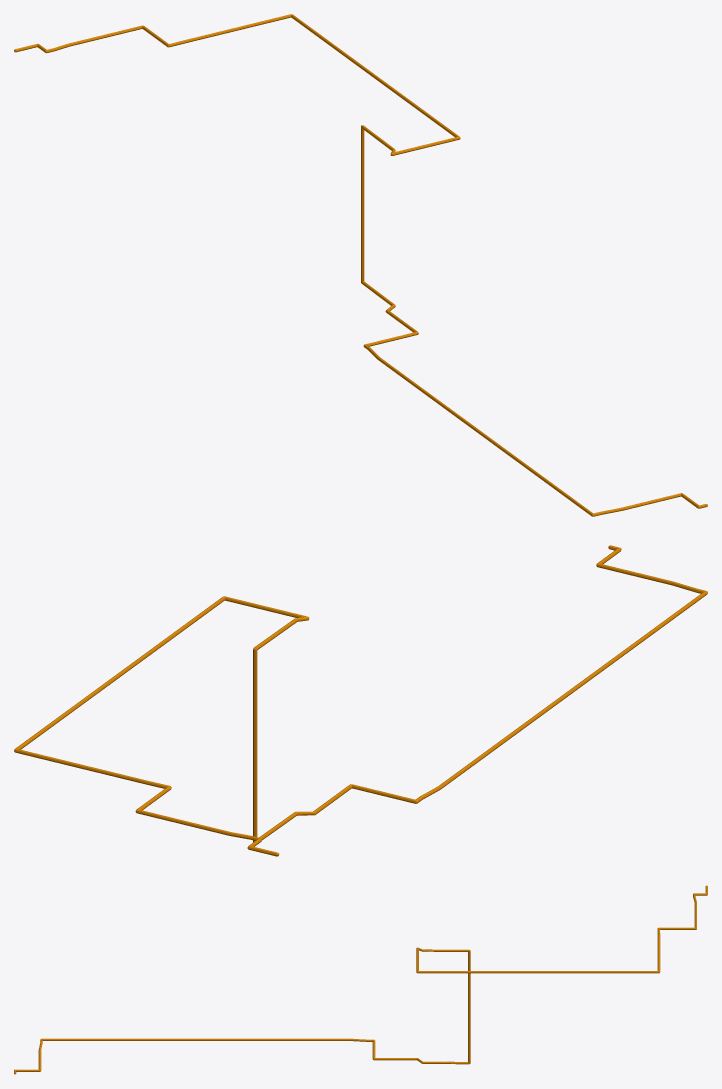
3 views of the same model, one above another, from view 1: azimuth 30°, elevation 25°; view 2: azimuth 150°, elevation 25°; view 3: azimuth 270°, elevation 25° (orthographic). The views are drawn at different scales.
Bounding box in the file's own units: 1655 × 1020 × 5605.
